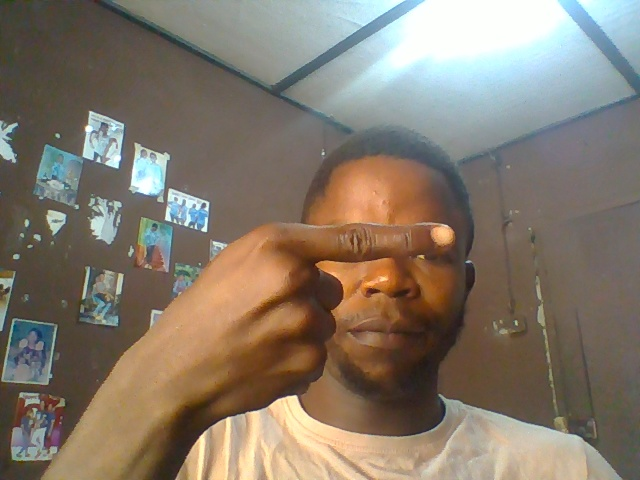Left: (142, 216, 461, 413)
